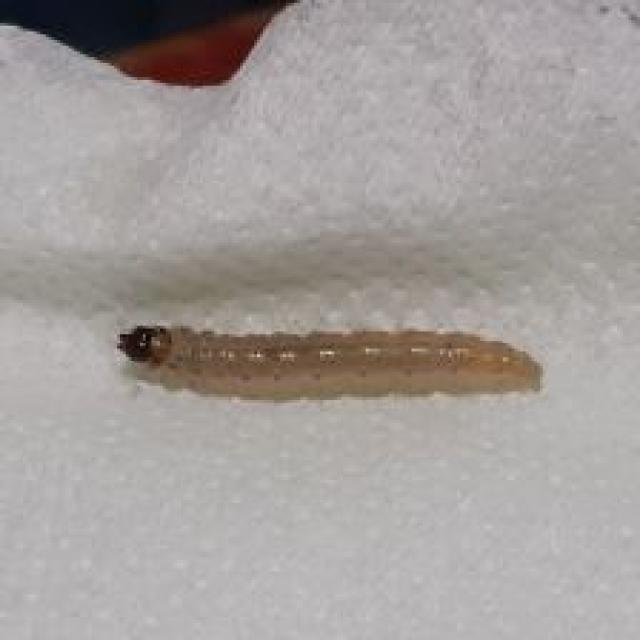white mucus: (101, 297, 547, 414)
